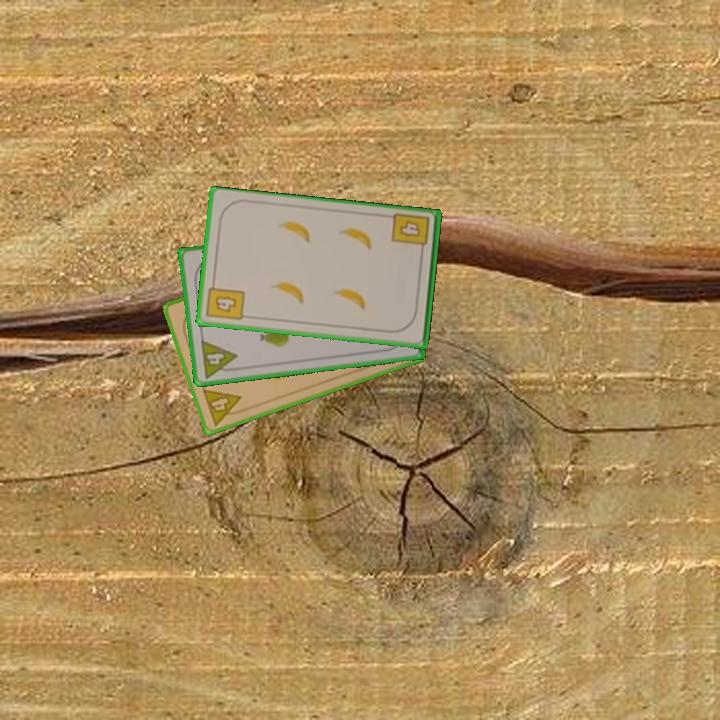4b: (388, 210, 433, 258), (203, 278, 248, 323)
4p: (199, 385, 248, 428), (197, 336, 241, 381)
